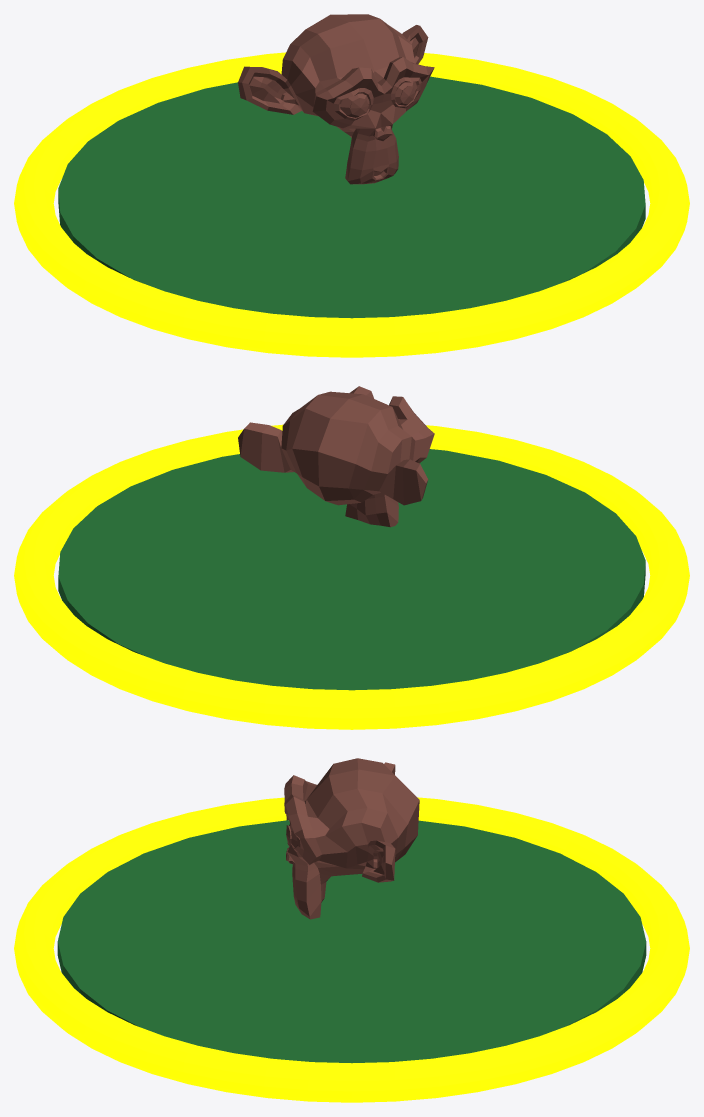
3 views of the same model, one above another, from view 1: azimuth 30°, elevation 25°; view 2: azimuth 150°, elevation 25°; view 3: azimuth 270°, elevation 25° (orthographic).
Parts seen in each view (by area): view 1: G_Ground, Torus, S_Suzanne; view 2: G_Ground, Torus, S_Suzanne; view 3: G_Ground, Torus, S_Suzanne.
Part boxes in pixels (x1,y1,x2,y2): G_Ground: (58,76,645,318); Torus: (14,52,689,357); S_Suzanne: (238,14,434,184); G_Ground: (58,449,645,690); Torus: (14,424,689,729); S_Suzanne: (238,386,434,527); G_Ground: (57,820,646,1063); Torus: (14,797,689,1102); S_Suzanne: (284,758,419,919).
Size of the model in its own units: 8.5 by 2.73 by 8.5.
